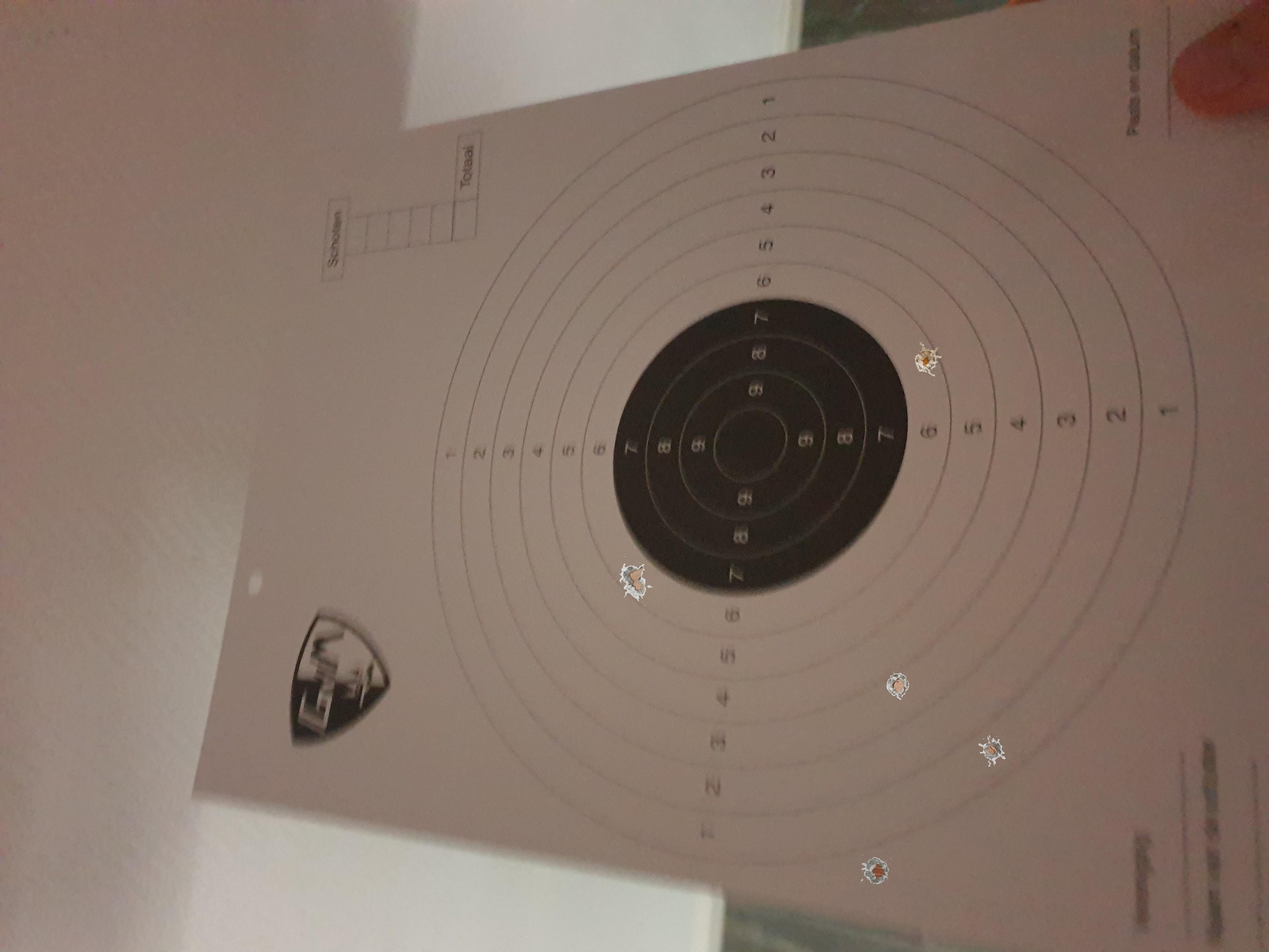hole: (914, 341, 942, 377), (861, 856, 890, 885), (978, 736, 1005, 767), (886, 672, 910, 700), (622, 581, 650, 600), (618, 564, 645, 583)
